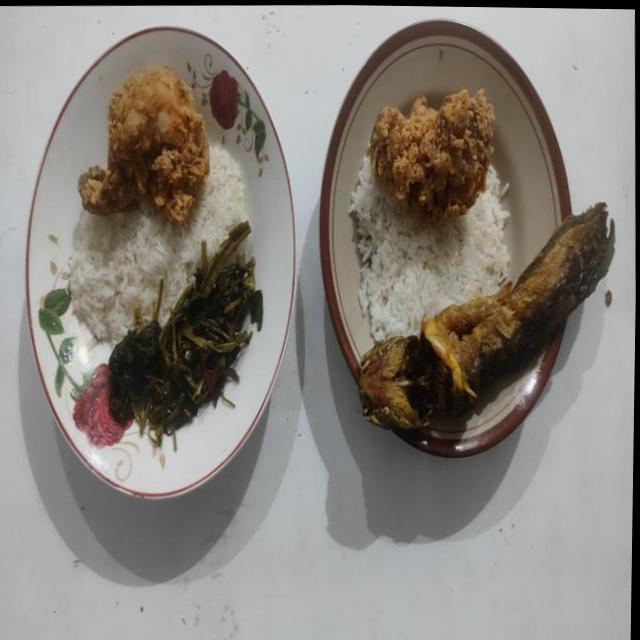nasi_putih: (68, 145, 246, 344), (348, 156, 510, 341)
tumis_kangkung: (109, 220, 262, 446)
